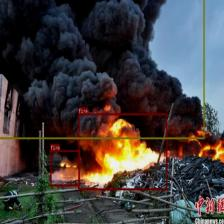fire: (78, 113, 167, 190), (50, 150, 80, 186)
smoke: (0, 0, 204, 138)
